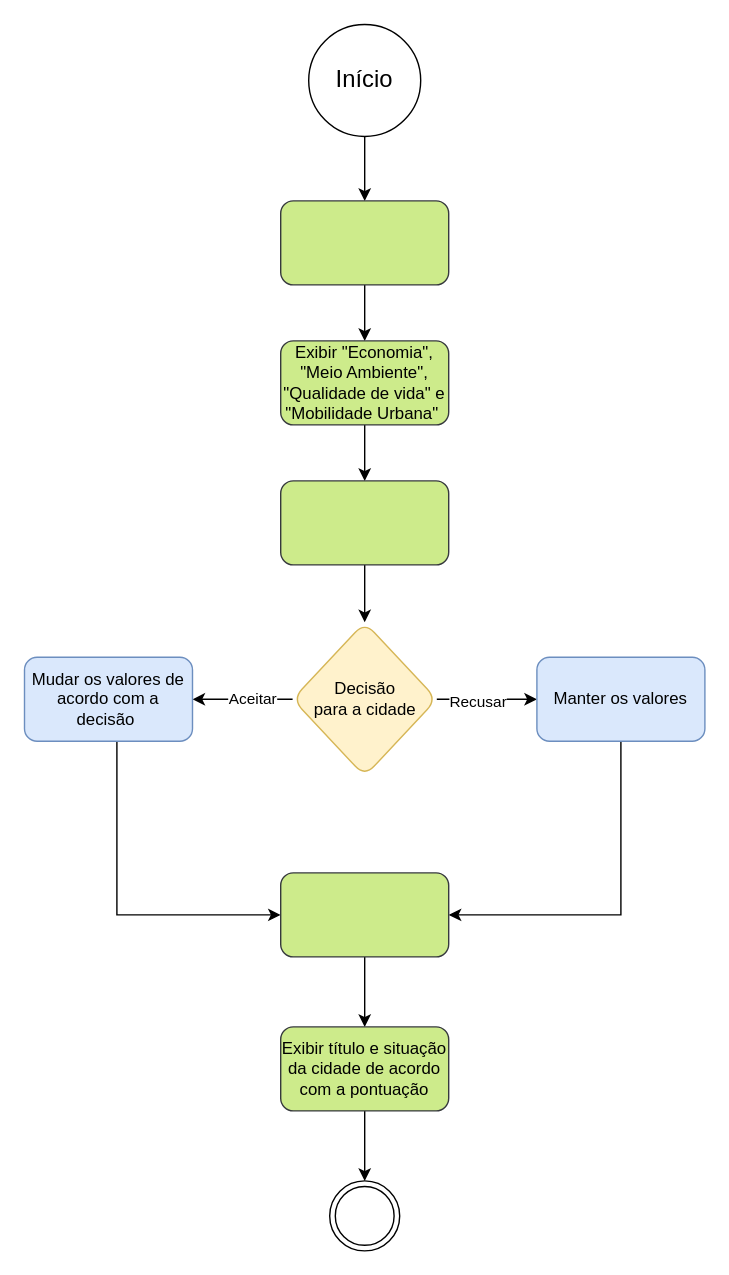
The diagram is 729 pixels wide and 1275 high, and some of its shapes have lost their labels. The box of each missing label's shape, as (x1, y1, x2, y2) in pixels:
Exibir mais 9 decisões: (279, 872, 449, 957)
Exibir status de cada indicador: (279, 479, 449, 565)
Iniciar a simulação: (279, 200, 449, 285)
